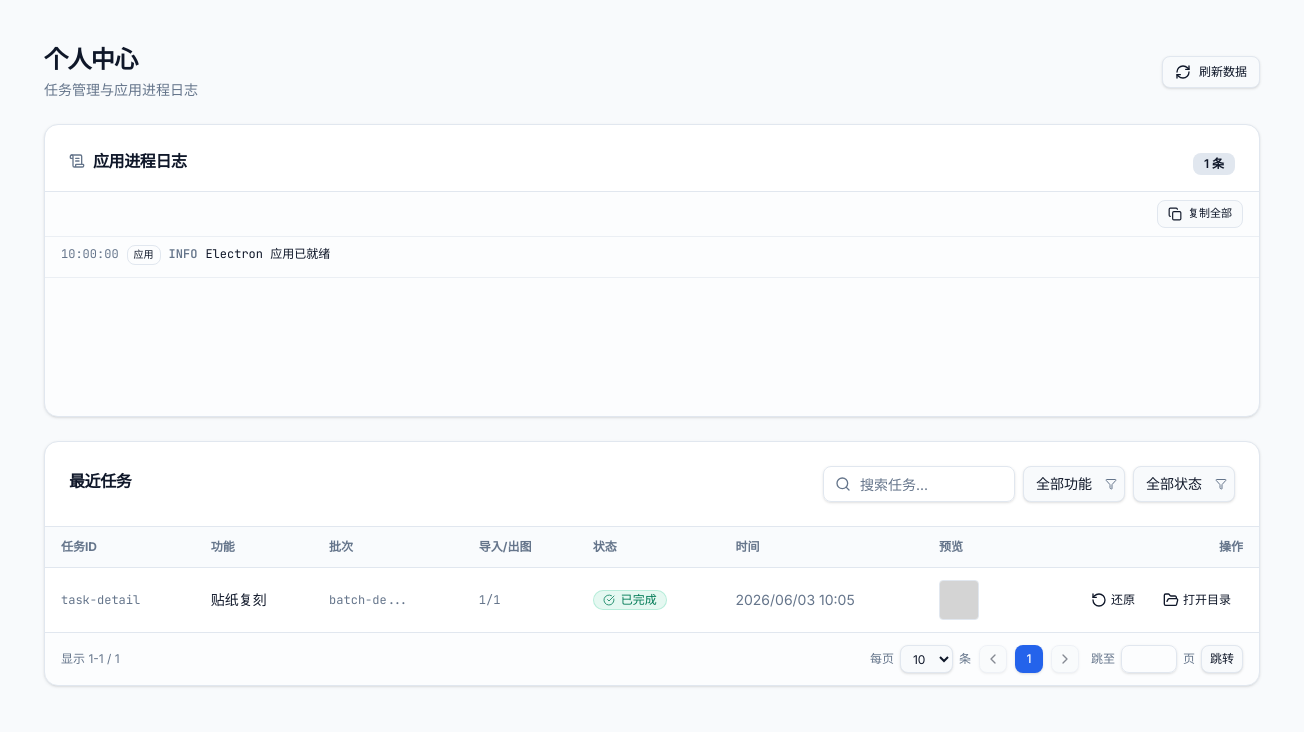
Profile › opens a drawer with task parameters and output images
The width and height of the screenshot is (1304, 732).
Click the text "贴纸复刻" at x=254, y=600, box [195,568,313,632]
(page scrolled)
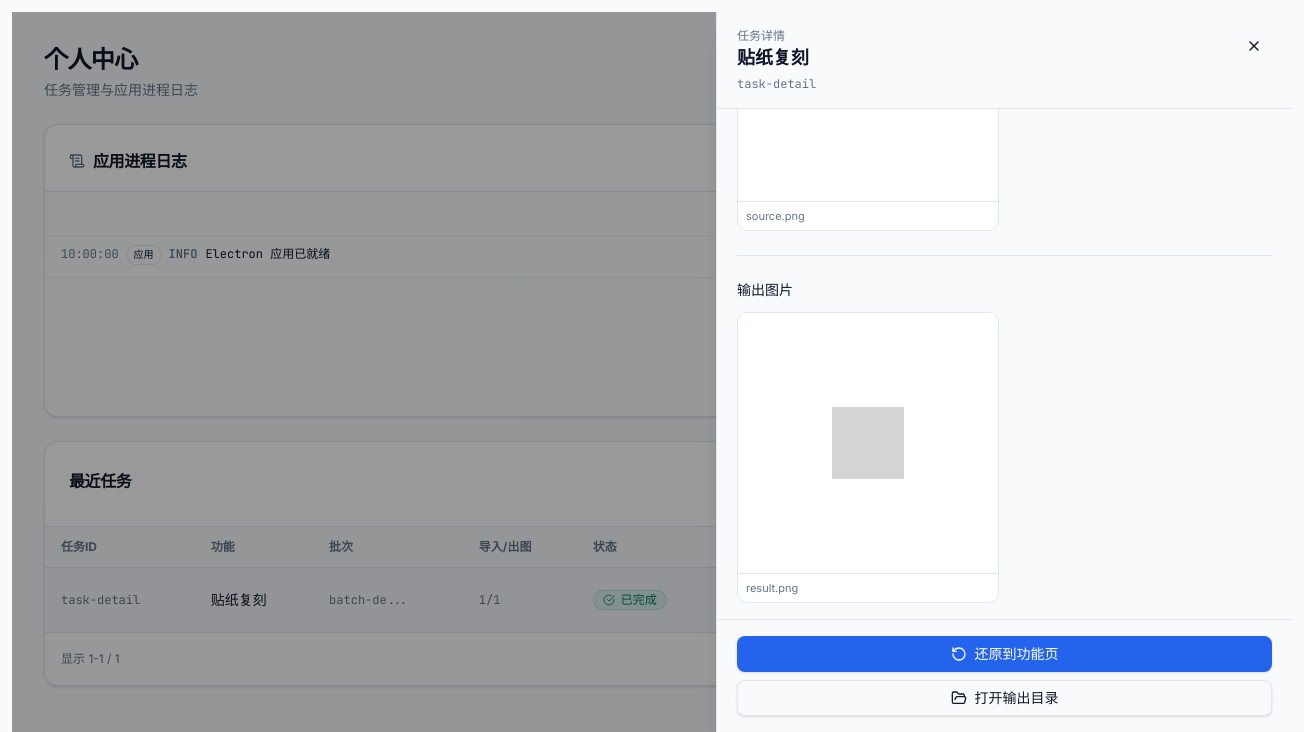
Now the text "任务详情" is shown, box [737,28,785,43]
